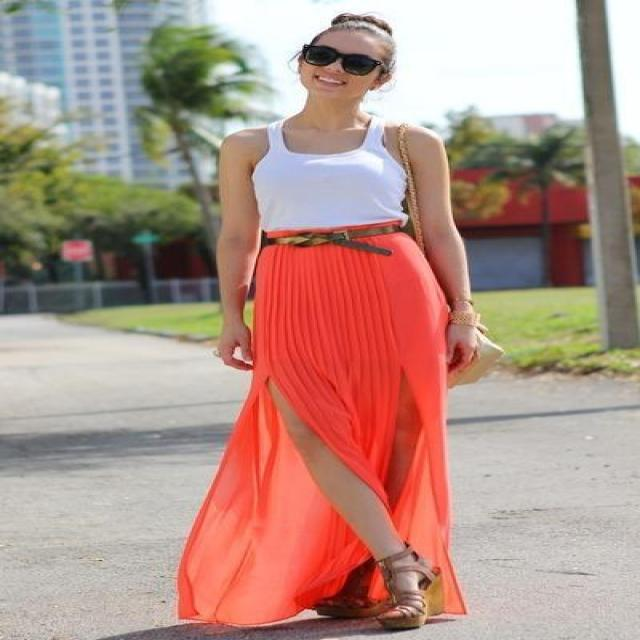bag: (438, 350, 478, 388)
shirt: (249, 109, 406, 242)
shoe: (304, 542, 430, 633)
skirt: (178, 233, 466, 626)
sunglass: (299, 38, 392, 79)
